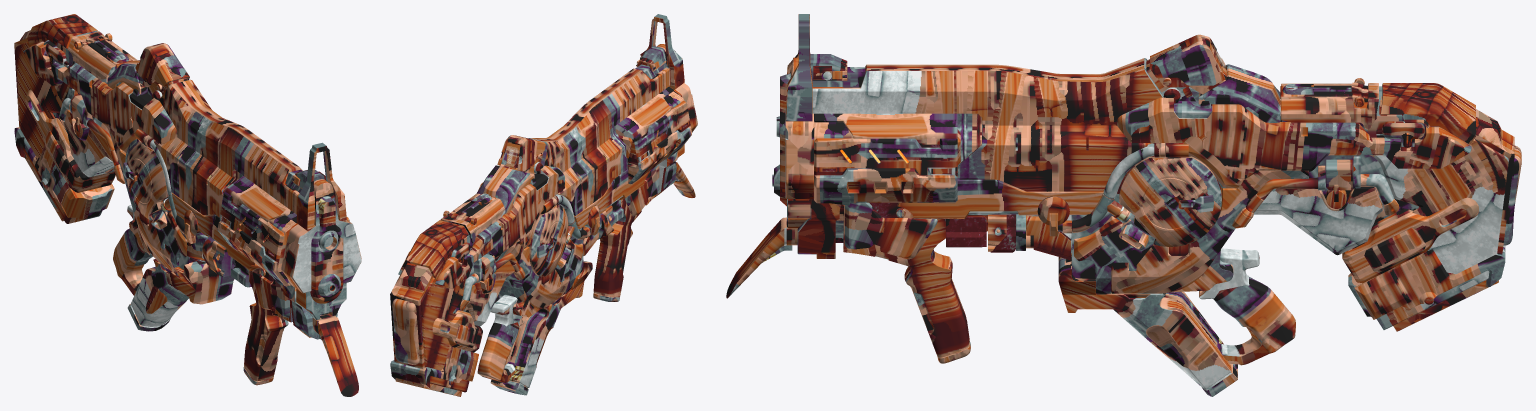
3 renders of one model, left to right at view 1: azimuth 30°, elevation 25°; view 2: azimuth 150°, elevation 25°; view 3: azimuth 270°, elevation 25°, orthographic. The views are drawn at different scales.
Visible parts, largest first — view 1: Object016_Gun_0; view 2: Object016_Gun_0; view 3: Object016_Gun_0.
Part boxes in pixels (<box>): Object016_Gun_0: <box>14,14,361,396</box>; Object016_Gun_0: <box>390,14,697,396</box>; Object016_Gun_0: <box>726,14,1521,396</box>.
Bounding box in the file's own units: 0.4902 × 1.76 × 3.39.
